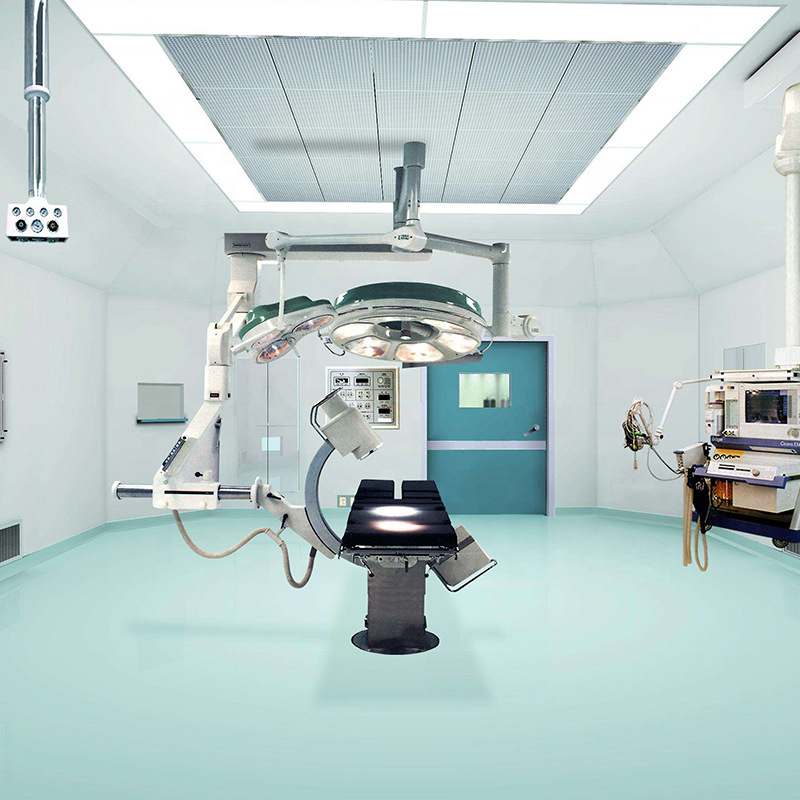bedside_monitor: (742, 381, 794, 433)
door_handle: (516, 419, 544, 439)
operating_bed: (337, 478, 458, 554)
surgical_light: (316, 280, 492, 367), (228, 293, 337, 369)
